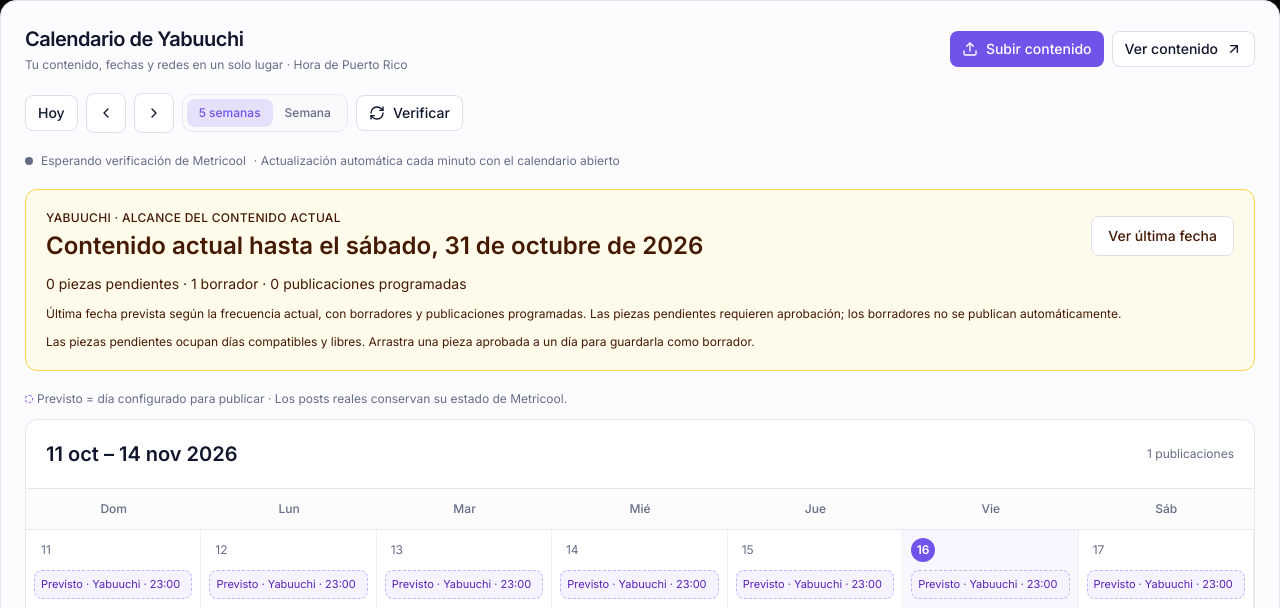
shows weeks remaining only in Semana, anchored to today while navigating weeks
Expected: the heading "Contenido actual hasta el sábado, 31 de octubre de 2026" is shown, [46,230,703,262]
Expected: the text "2 semanas y 1 día más de contenido" is not shown
Click the button "Semana": x=308, y=113 [273,99,343,127]
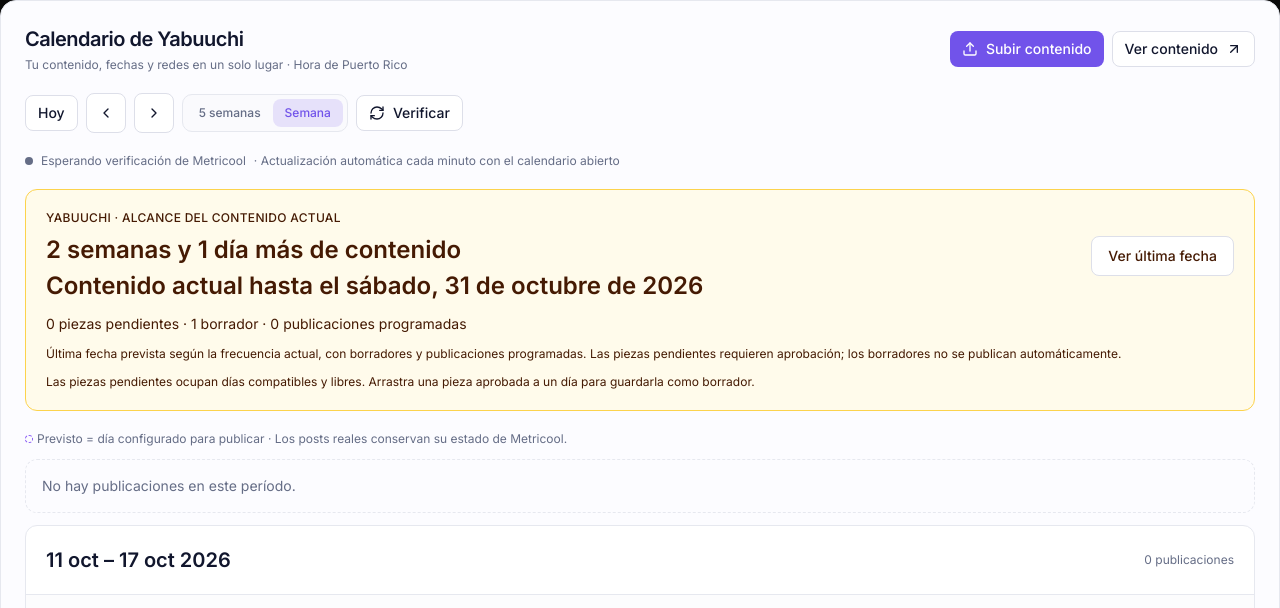
Expected: the text "2 semanas y 1 día más de contenido" is shown, [46,235,461,264]
Click the button named "Período siguiente": x=154, y=113 [134,93,174,133]
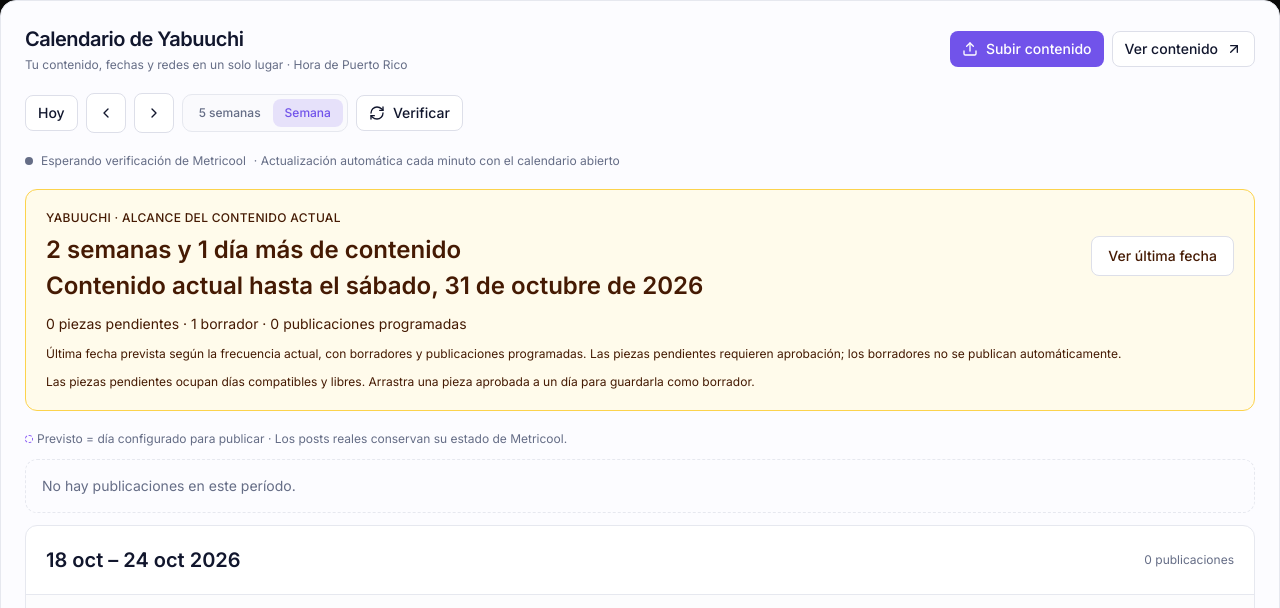
Expected: the text "2 semanas y 1 día más de contenido" is shown, [46,235,461,264]
Click the button "Ver última fecha": x=1163, y=256 [1091,236,1234,276]
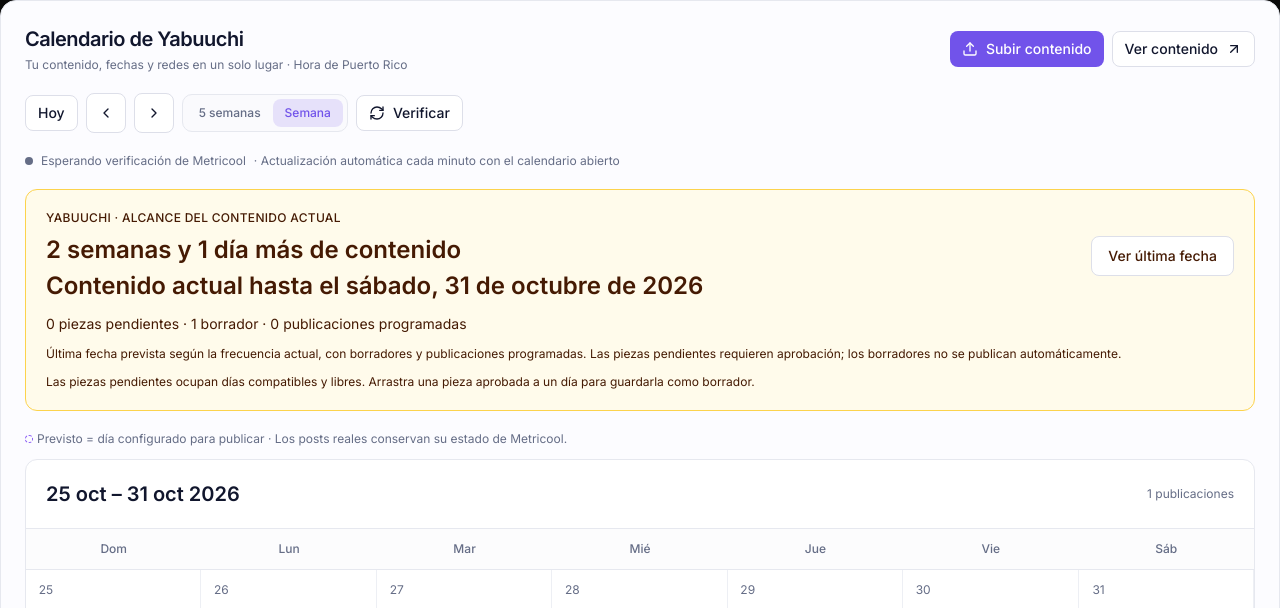
Expected: the text "1 borrador" is shown, [46,315,466,332]
Expected: the text "2 semanas y 1 día más de contenido" is shown, [46,235,461,264]
Click the button "5 semanas": x=230, y=113 [187,99,273,127]
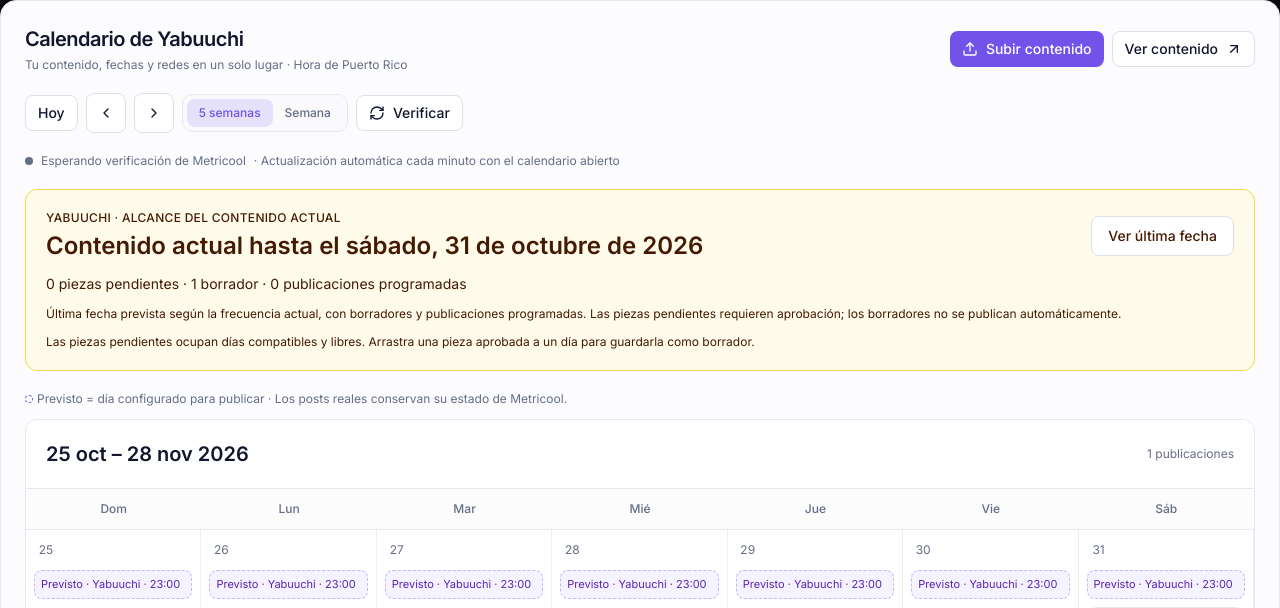
Expected: the text "2 semanas y 1 día más de contenido" is gone
